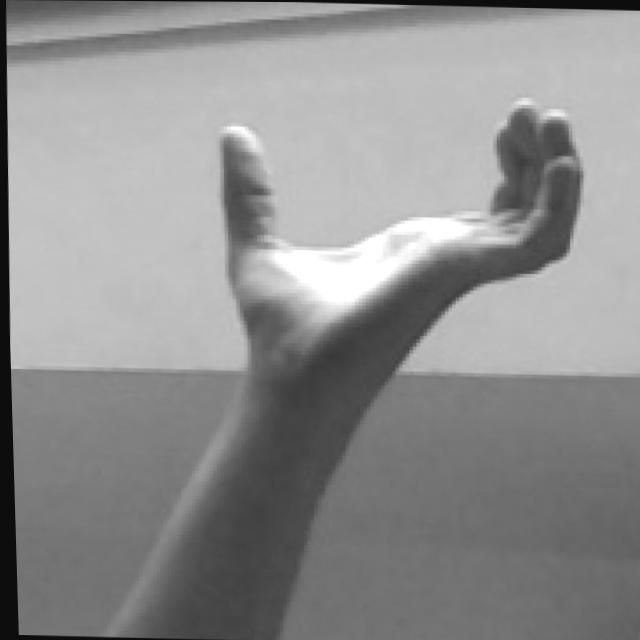space: (211, 79, 593, 358)
